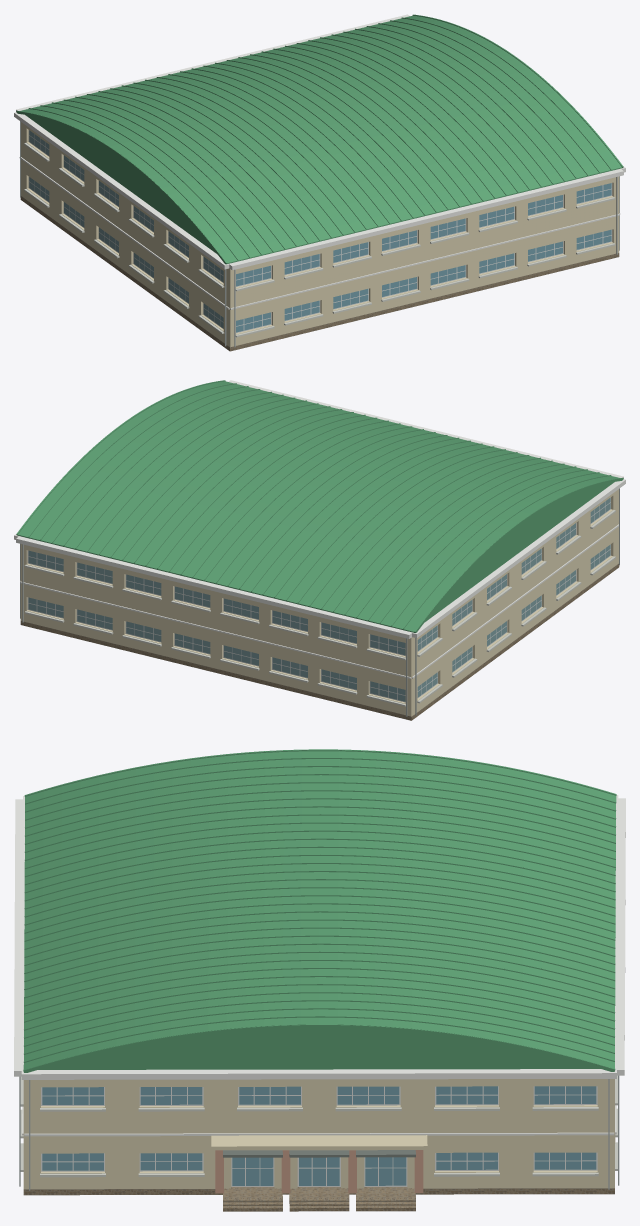
3 renders of one model, top to bottom at view 1: azimuth 30°, elevation 25°; view 2: azimuth 150°, elevation 25°; view 3: azimuth 270°, elevation 25°, orthographic. The views are drawn at different scales.
Parts seen in each view (by area): view 1: gym__green, gym__cream, gym__glass, gym__cap, gym__frame, gym__sill, gym__sideglass, gym__stone, gym__panel, gym__steel; view 2: gym__green, gym__cream, gym__sideglass, gym__cap, gym__frame, gym__sill, gym__stone, gym__panel, gym__steel; view 3: gym__green, gym__cream, gym__glass, gym__cap, gym__frame, gym__sill, gym__stone, gym__panel, gym__salmon, gym__entrance, gym__steel, gym__stair-gym-east-2 (+5 smaller).
Part boxes in pixels (<box>): gym__green: <box>16,14,623,264</box>; gym__cream: <box>21,122,619,347</box>; gym__glass: <box>236,183,611,332</box>; gym__cap: <box>14,14,625,270</box>; gym__frame: <box>28,130,612,333</box>; gym__sill: <box>24,142,615,337</box>; gym__sideglass: <box>29,130,223,328</box>; gym__stone: <box>20,196,619,351</box>; gym__panel: <box>19,157,620,309</box>; gym__steel: <box>20,121,619,347</box>; gym__green: <box>16,380,623,632</box>; gym__cream: <box>20,489,618,716</box>; gym__sideglass: <box>28,497,610,701</box>; gym__cap: <box>14,380,625,638</box>; gym__frame: <box>27,497,610,702</box>; gym__sill: <box>24,510,615,706</box>; gym__stone: <box>20,563,619,720</box>; gym__panel: <box>20,524,618,678</box>; gym__steel: <box>20,488,619,716</box>; gym__green: <box>23,749,616,1072</box>; gym__cream: <box>23,1079,615,1189</box>; gym__glass: <box>42,1086,596,1185</box>; gym__cap: <box>14,795,625,1079</box>; gym__frame: <box>41,1086,597,1186</box>; gym__sill: <box>20,1075,617,1177</box>; gym__stone: <box>23,1188,614,1195</box>; gym__panel: <box>22,1105,616,1136</box>; gym__salmon: <box>215,1150,423,1193</box>; gym__entrance: <box>223,1150,415,1157</box>; gym__steel: <box>19,1075,619,1190</box>; gym__stair-gym-east-2: <box>289,1198,349,1211</box>.
Size of the model in its own units: 41.47 by 11.47 by 36.81.
Materials: 13 (1 with a texture image).
